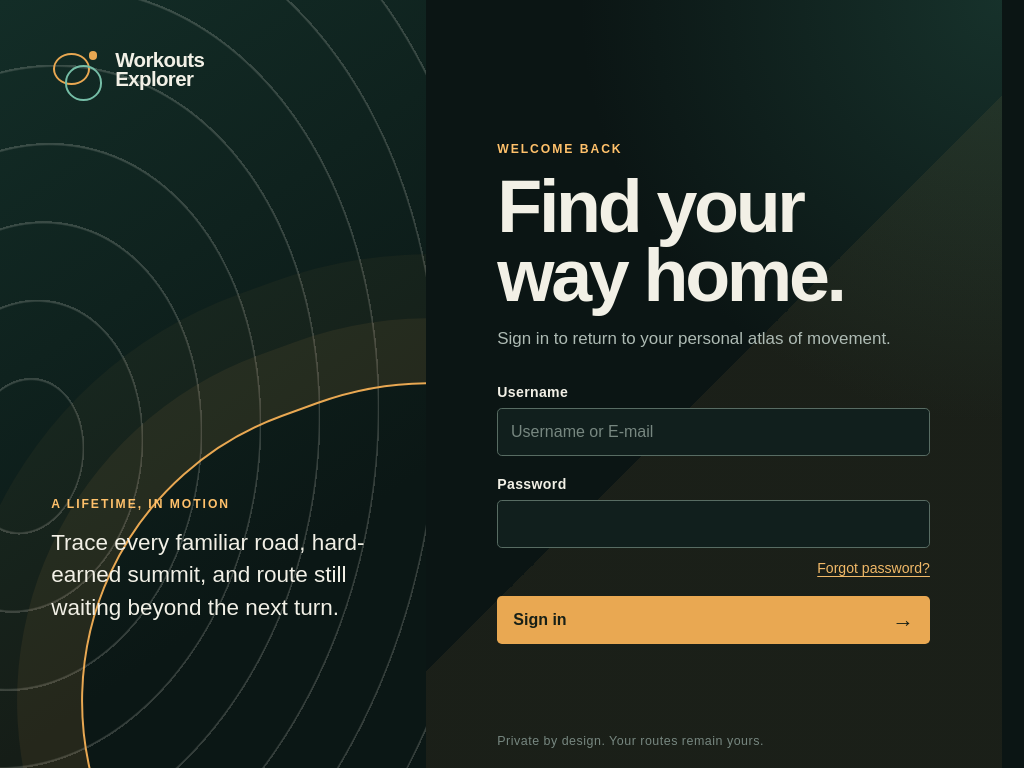
Test case: public authentication › successful login sends the exact body and navigates into the restored shell
This screenshot has width=1024, height=768.
Type "avery@example.test" into the field labelled "Username" at (714, 432), box x1=497 y1=408 x2=930 y2=456
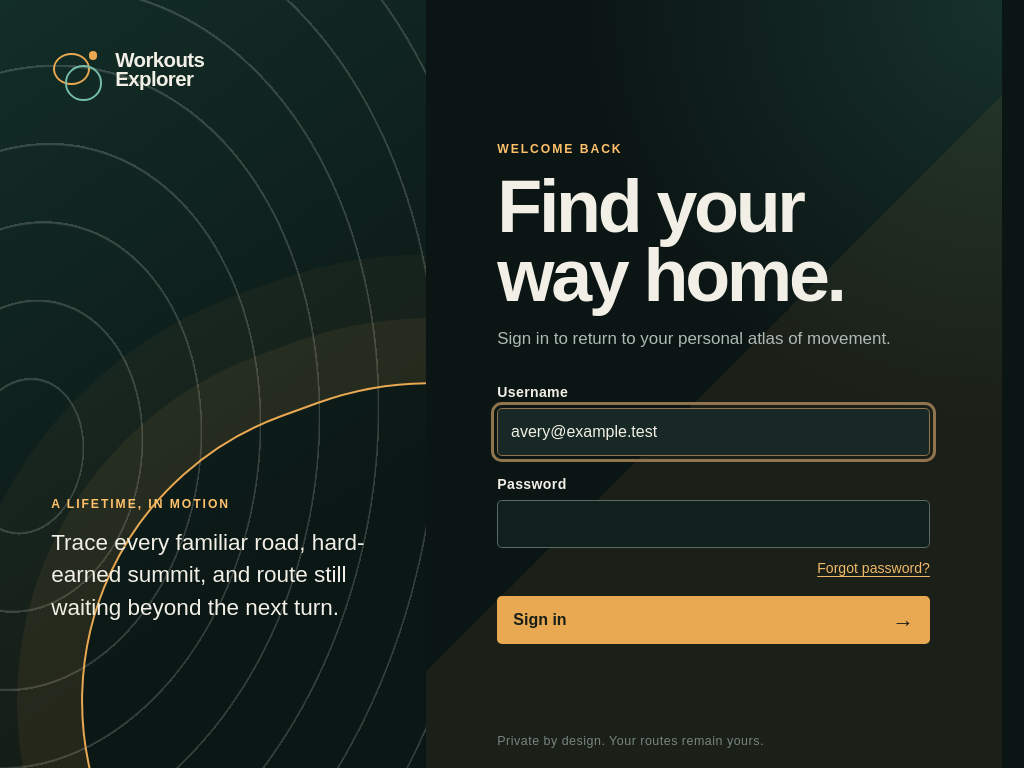
Type "correct horse battery" into the password field labelled "Password" at (714, 524), box x1=497 y1=500 x2=930 y2=548
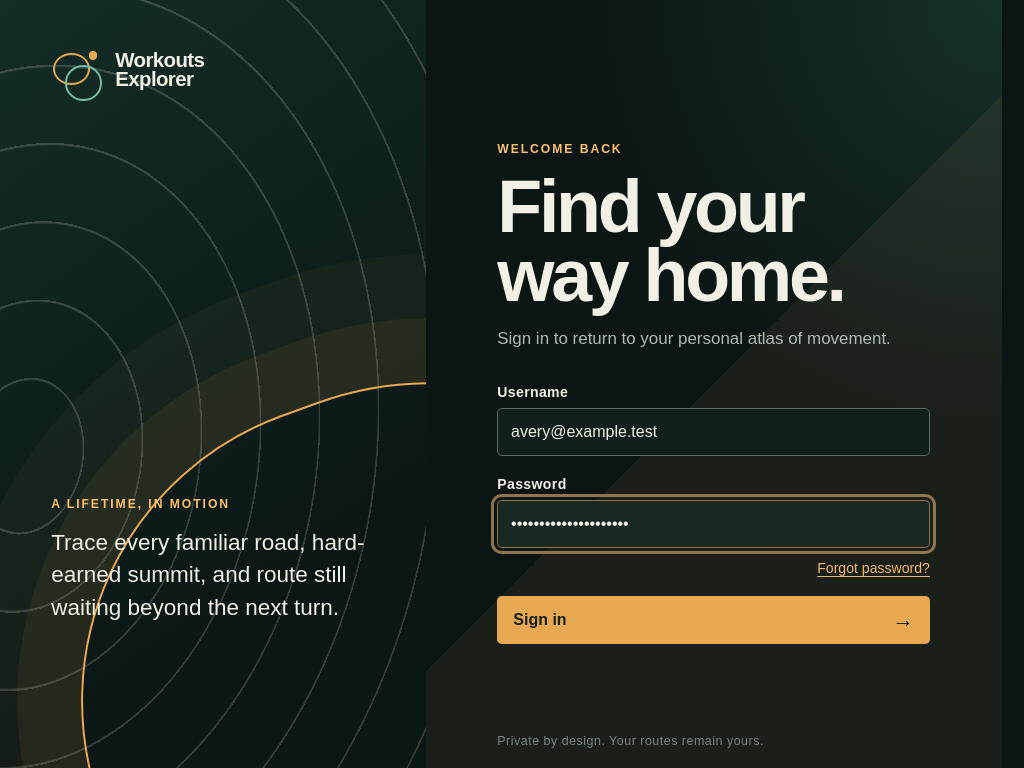
Click the button "Sign in" at (540, 620), box x1=497 y1=596 x2=930 y2=644
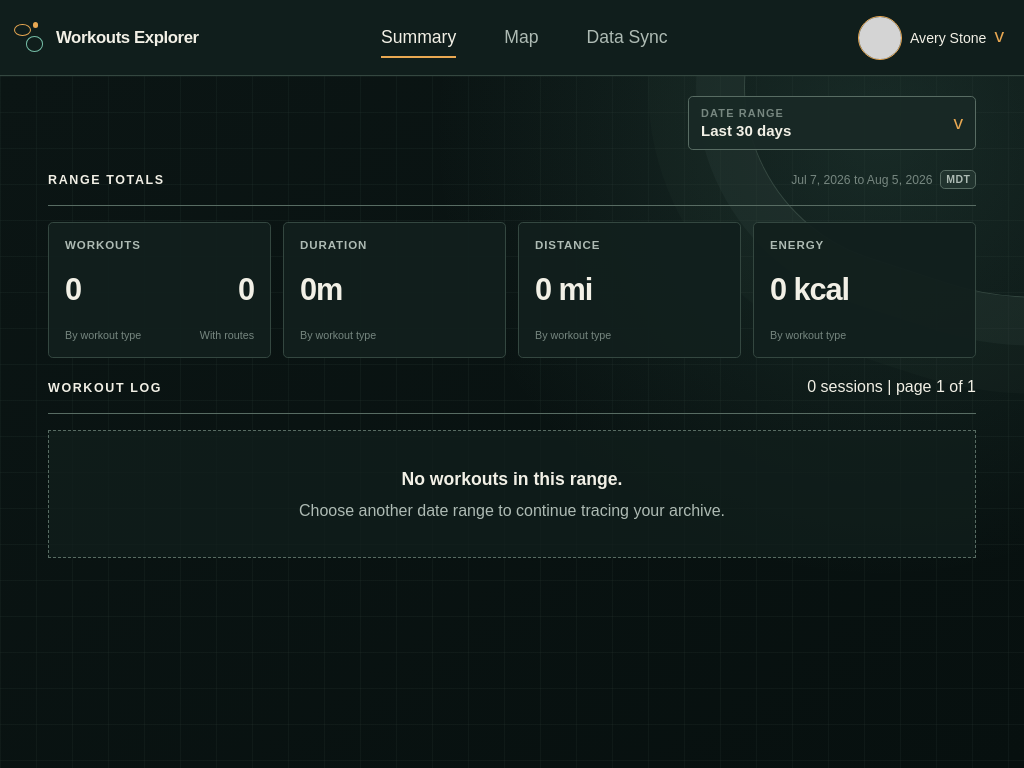
Now the button named "Select date range" is shown, box x1=688 y1=96 x2=976 y2=150
